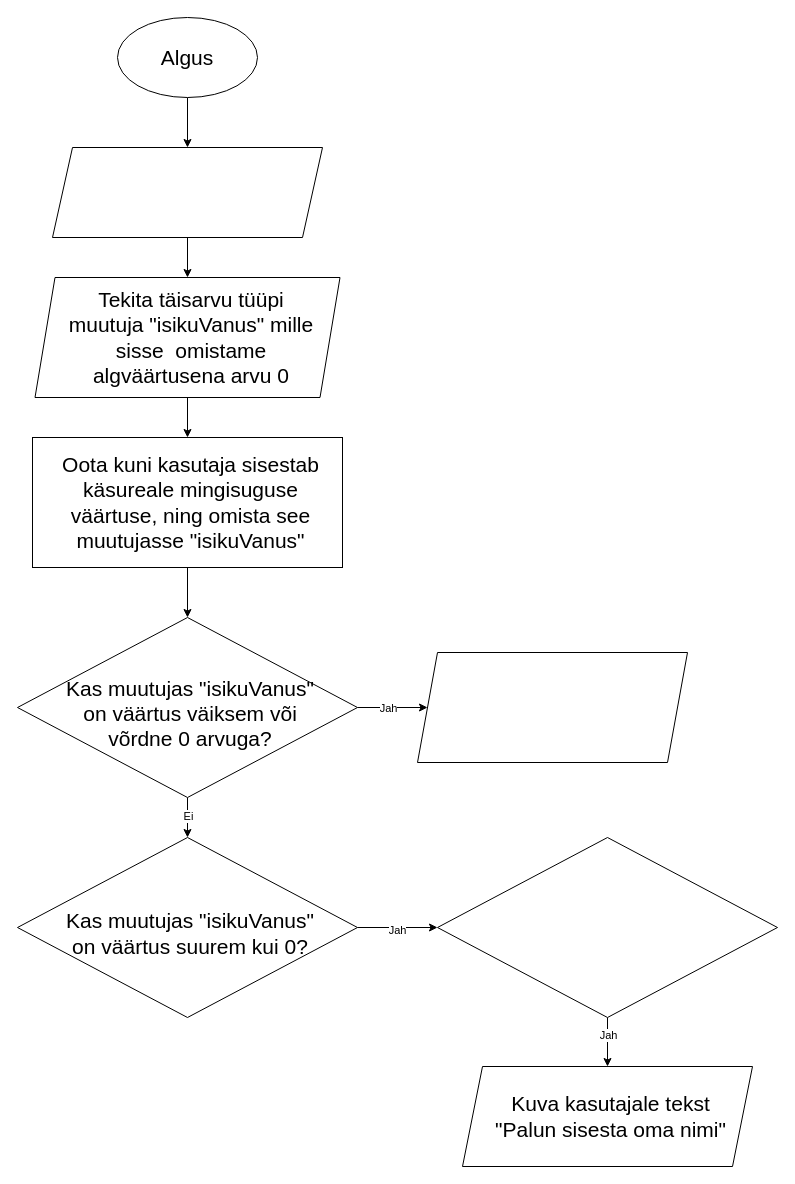
This 795x1184 diagram has some shape labels left out. Each missing label, with the centre of its shape:
Kas muutujas "isikuVanus" on väärtus väiksem kui 18?: pixel 607 927
Kuva kasutajale tekst "Ajarändureid me ei teeninda": pixel 552 707
Kuva kasutajale tekst "palun sisesta oma vanus": pixel 187 192
